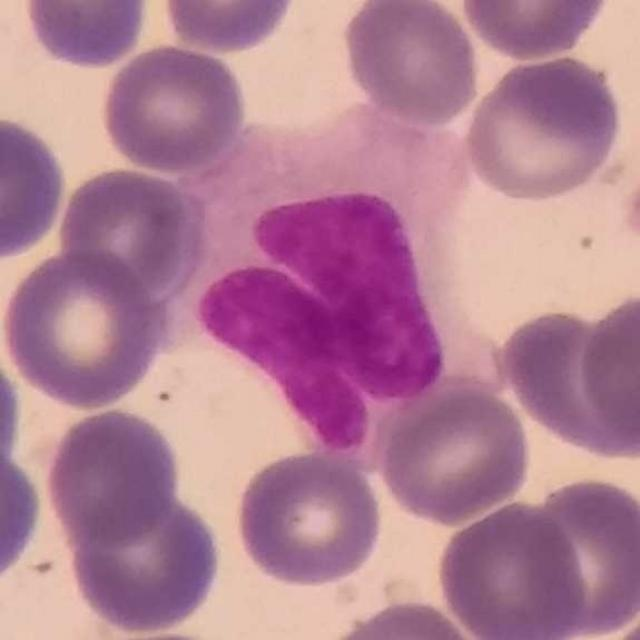Monocyte: (184, 108, 503, 459)
RBC: (0, 245, 170, 411), (460, 50, 628, 205), (60, 488, 227, 636), (493, 304, 639, 463), (374, 382, 534, 526), (435, 497, 591, 640), (232, 448, 386, 588), (96, 40, 249, 176), (518, 472, 640, 639), (42, 404, 182, 549), (52, 163, 203, 297), (337, 0, 484, 128), (575, 287, 640, 453), (0, 110, 69, 265), (457, 0, 615, 62), (19, 0, 154, 71), (157, 0, 300, 56), (320, 596, 484, 640), (0, 441, 47, 592), (0, 339, 24, 484), (603, 596, 639, 640)
